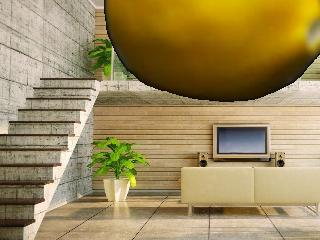lemon: (112, 1, 317, 101)
